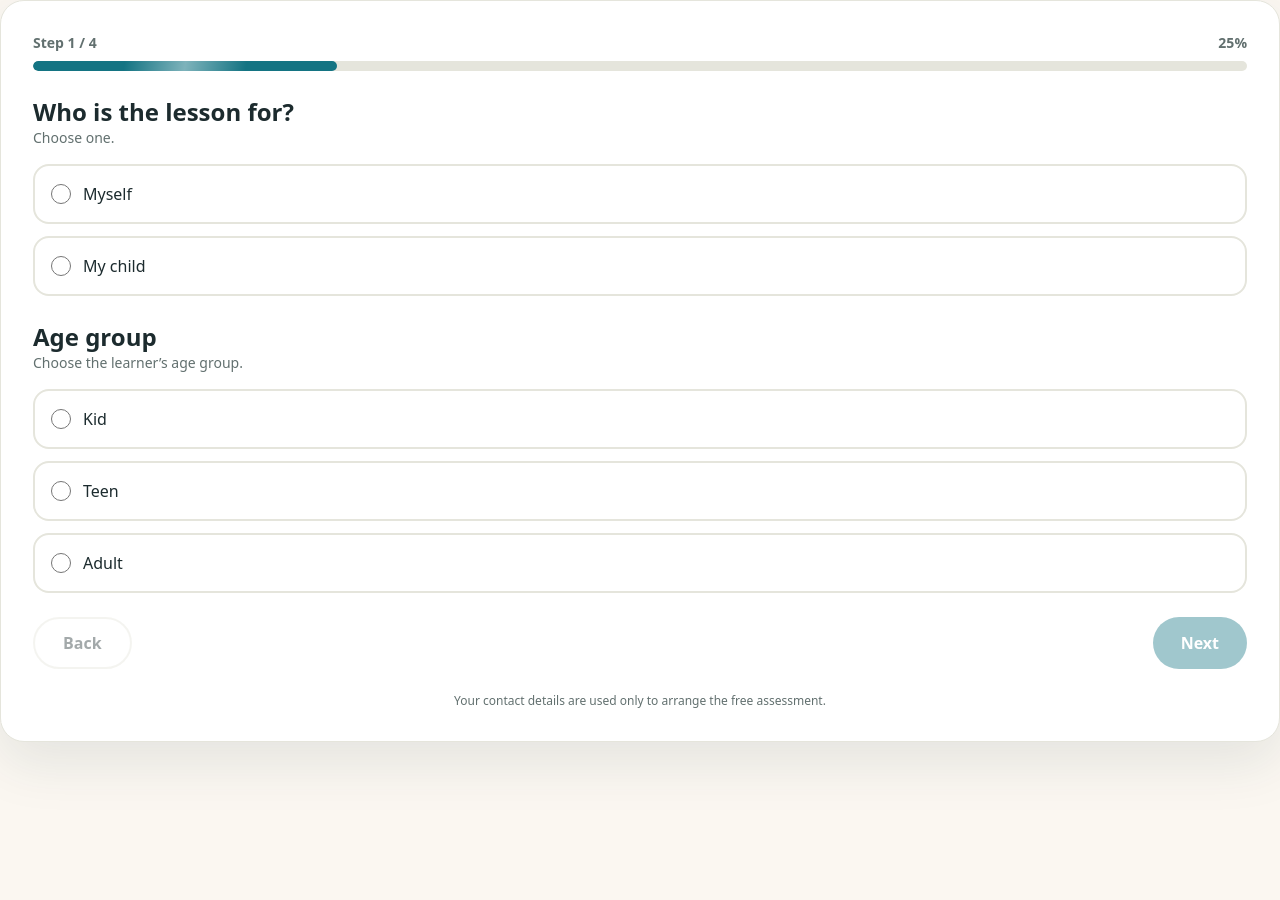
Test: AssessmentForm › moves focus to the new screen heading when advancing a step
Click the radio button labelled "Myself": (61, 194) [51,184,71,204]
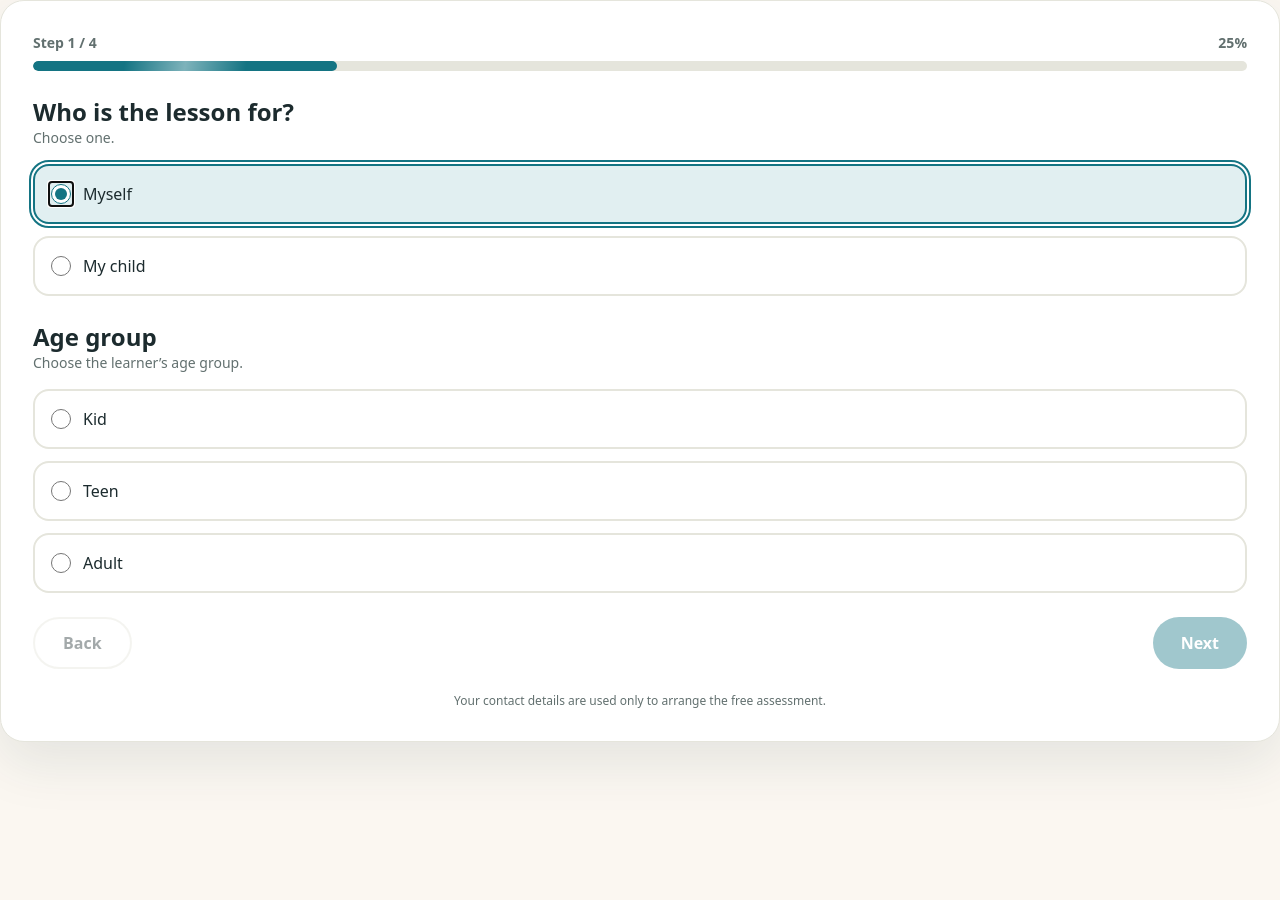
Click the radio button labelled "Kid": (61, 419) [51,409,71,429]
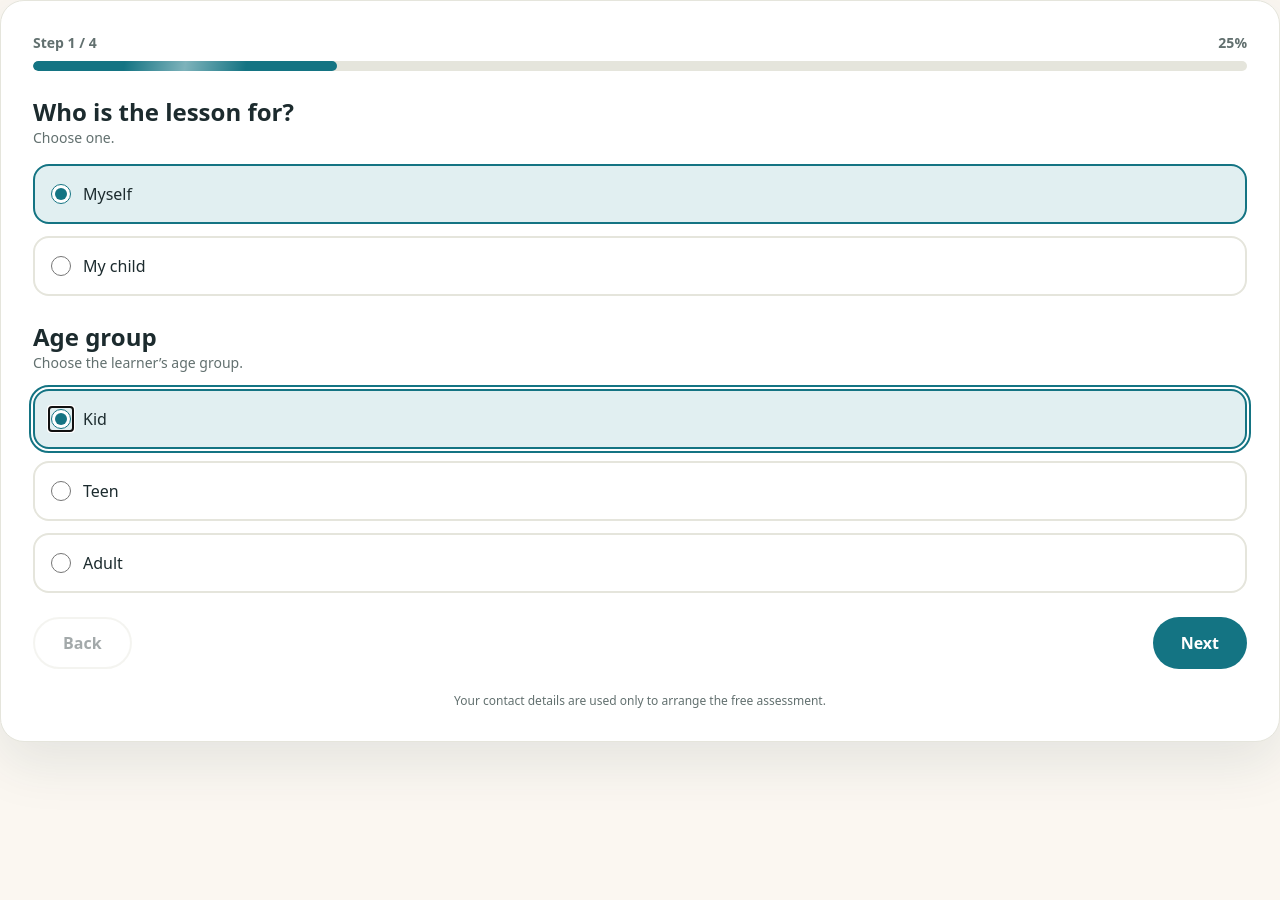
Click the button "Next": (1200, 643) [1153,617,1247,669]
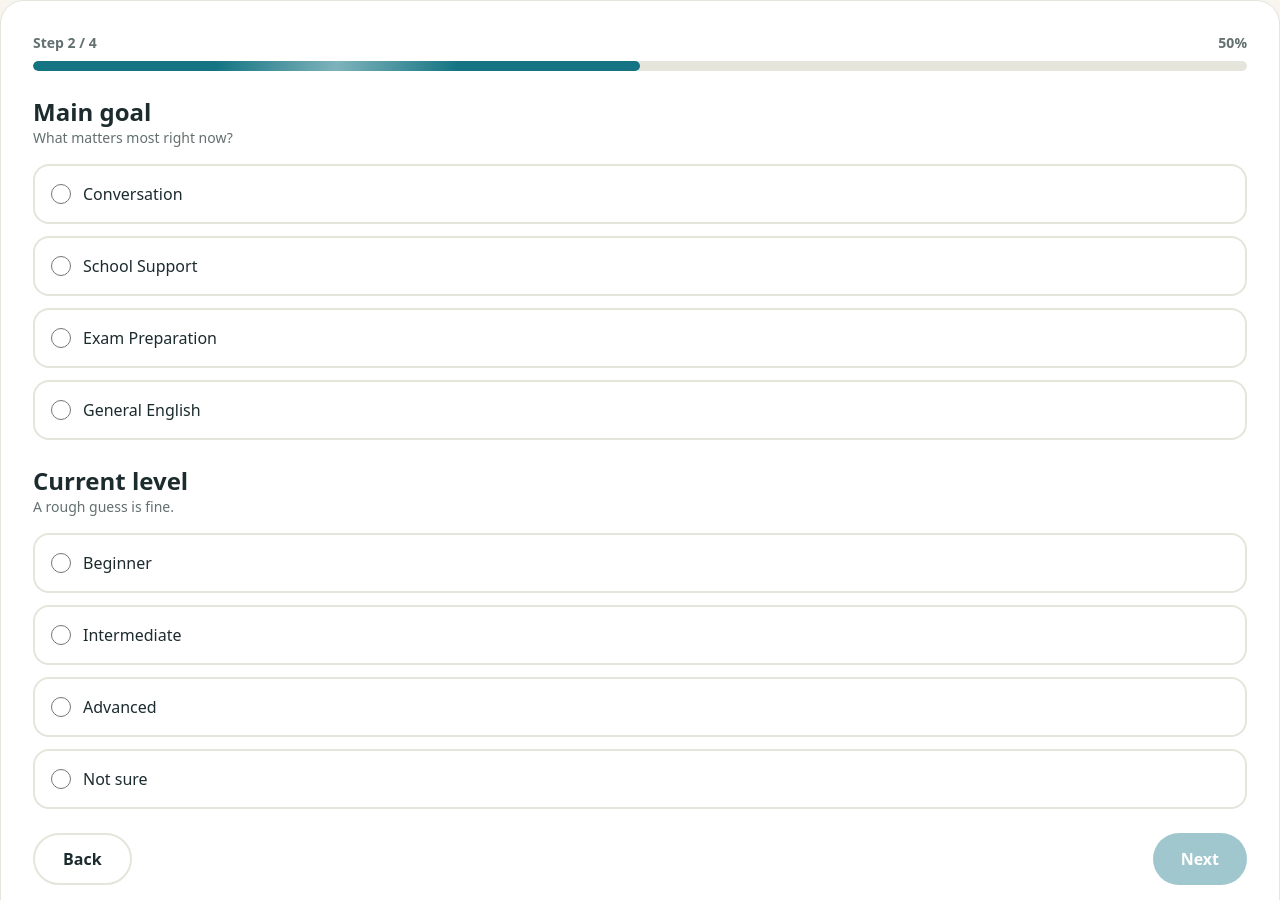
Result: the text "Main goal" is shown at [33,95,151,128]
